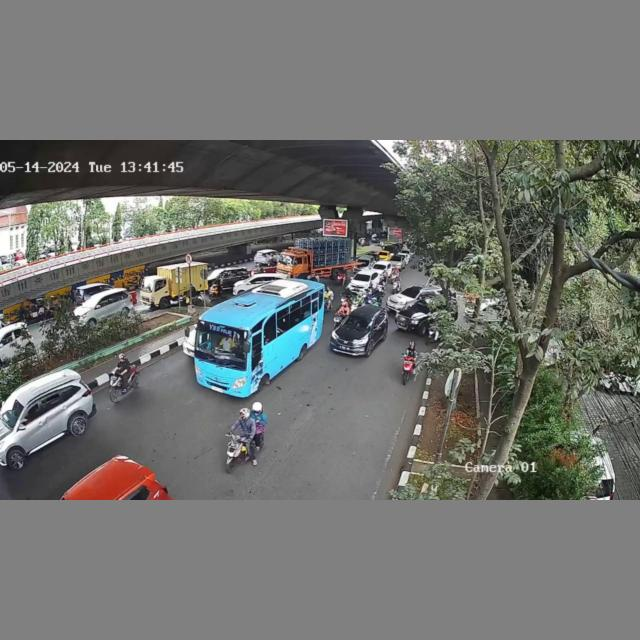windshield: (342, 313, 374, 331)
